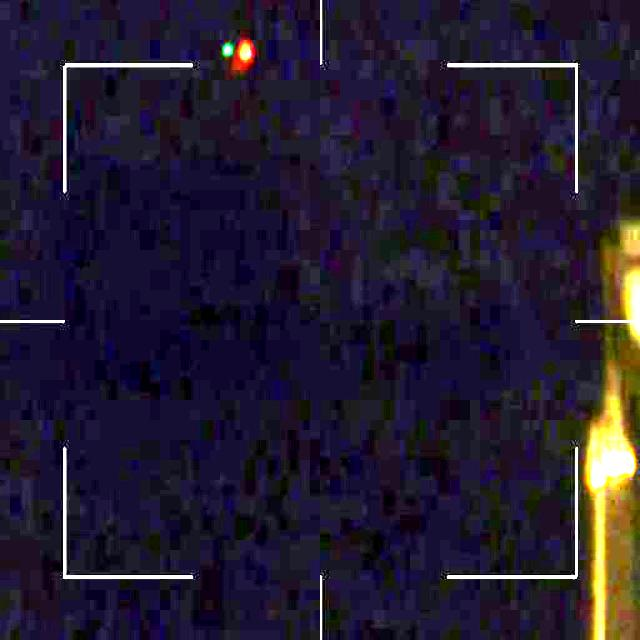bird: (220, 38, 254, 68)
